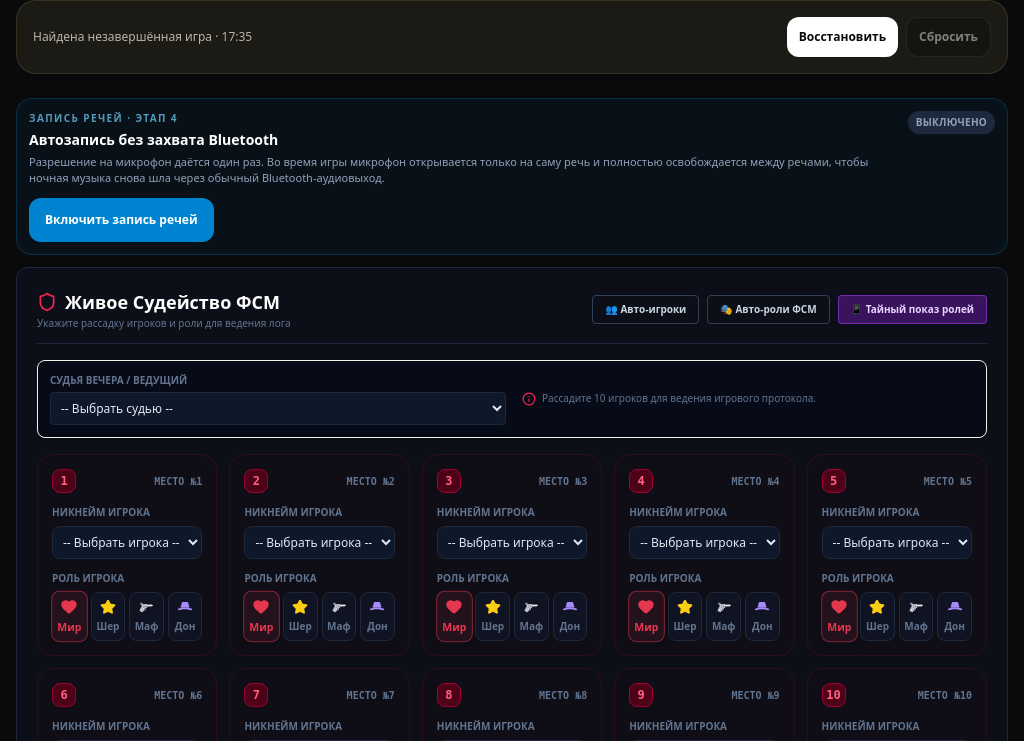
Test: live game emergency recovery › does not auto-finish a recovered winning game before the last speech and death protocol
Click the button "Восстановить".
click(842, 37)  # box [787,17,898,57]
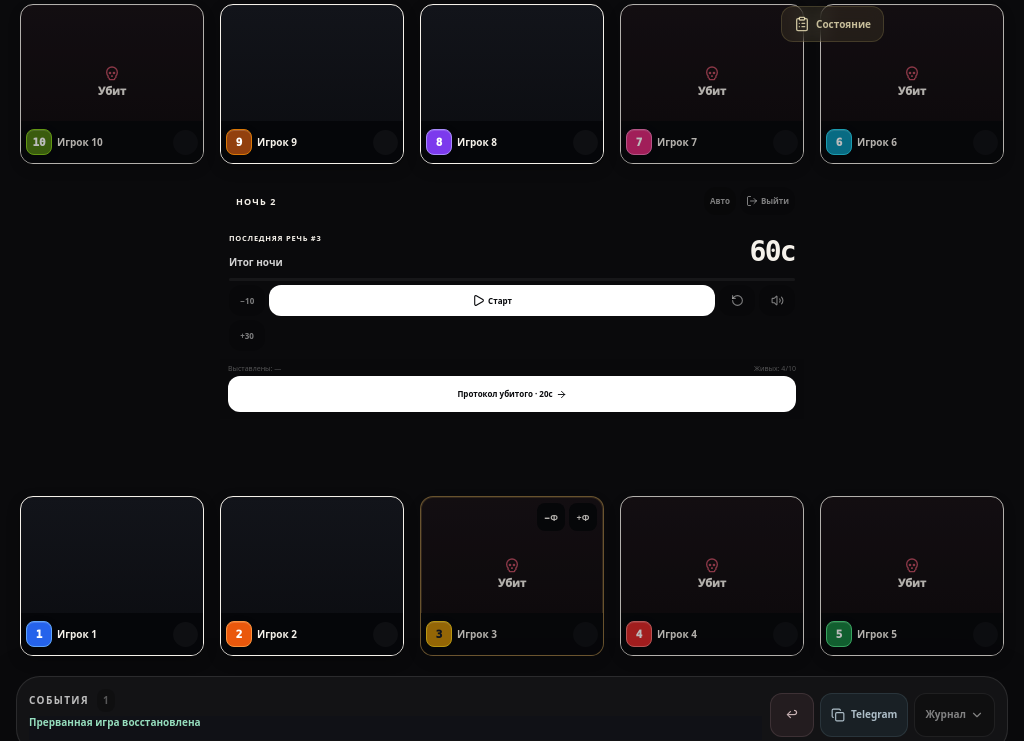
Check: the text "Последняя речь #3" is shown, box [229,233,322,243]
Check: the text "60с" is shown, box [750,234,795,268]
Click the button "Протокол убитого · 20с".
click(512, 394)  # box [228,376,796,412]
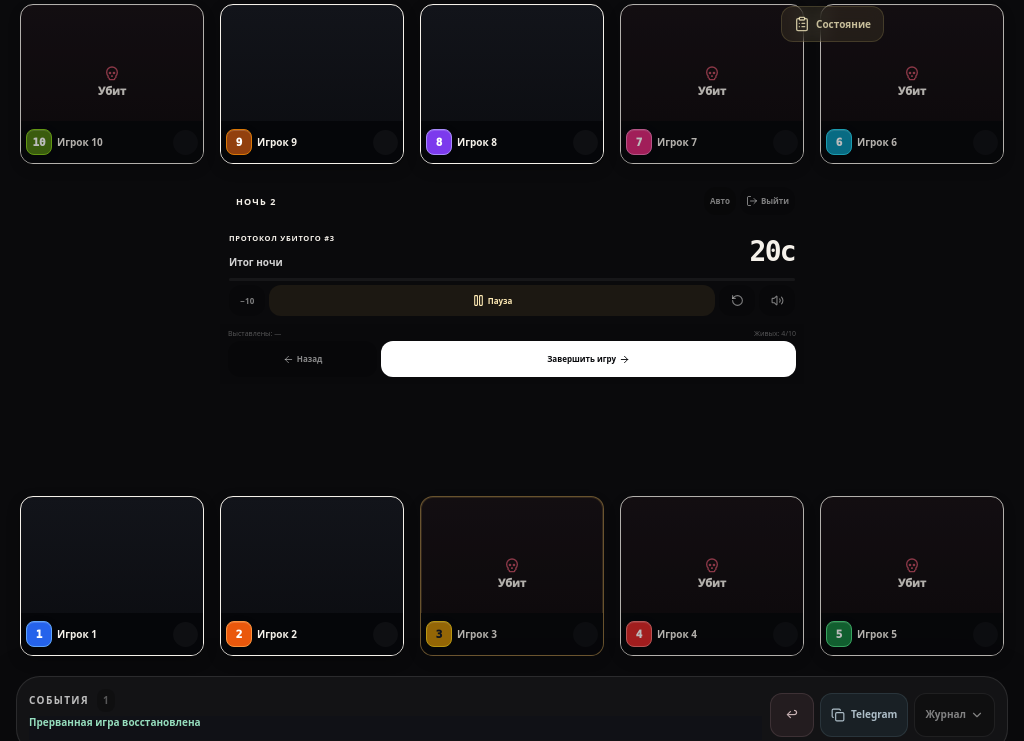
Check: the text "Протокол убитого #3" is shown, box [229,233,335,243]
Check: the text "20с" is shown, box [750,234,795,268]
Check: the button "Завершить игру" is shown, box [381,341,796,377]
